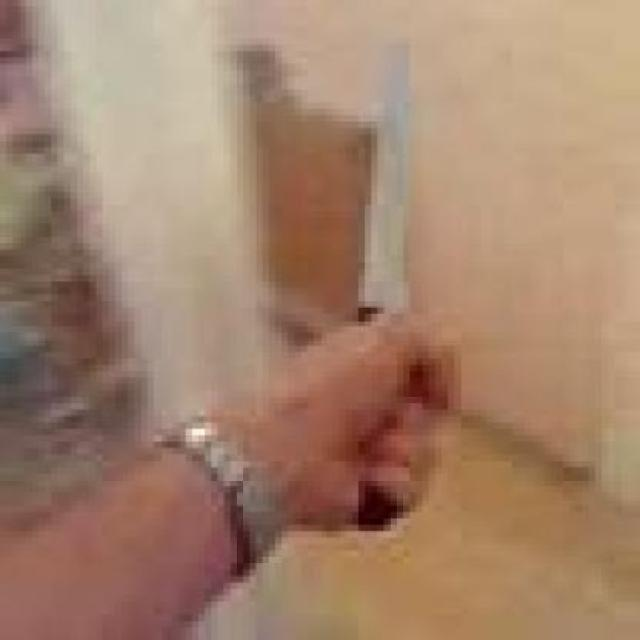knife: (356, 47, 416, 536)
